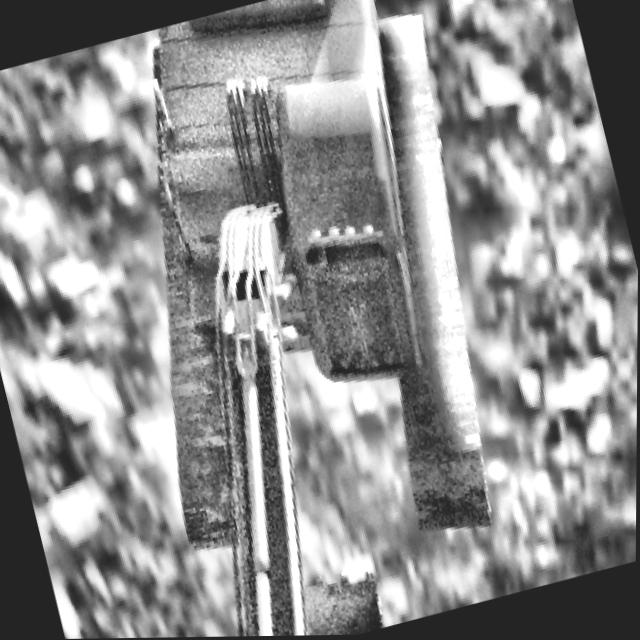excavator: (64, 0, 560, 639)
